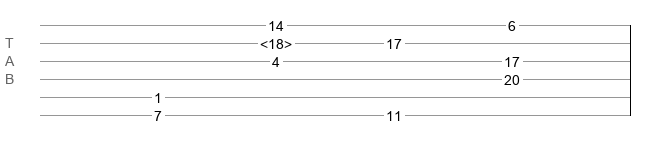1: (154, 90, 162, 100)
11: (386, 108, 402, 118)
14: (268, 18, 284, 28)
17: (386, 36, 402, 46), (504, 54, 520, 64)
20: (504, 72, 520, 82)
4: (272, 54, 280, 64)
6: (508, 18, 516, 28)
7: (154, 108, 162, 118)
harmonic: (260, 36, 292, 46)
